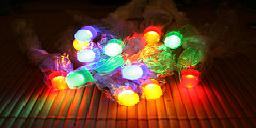LED: (61, 67, 91, 95), (116, 84, 141, 110), (74, 25, 101, 44), (102, 39, 127, 59), (163, 30, 183, 53)
